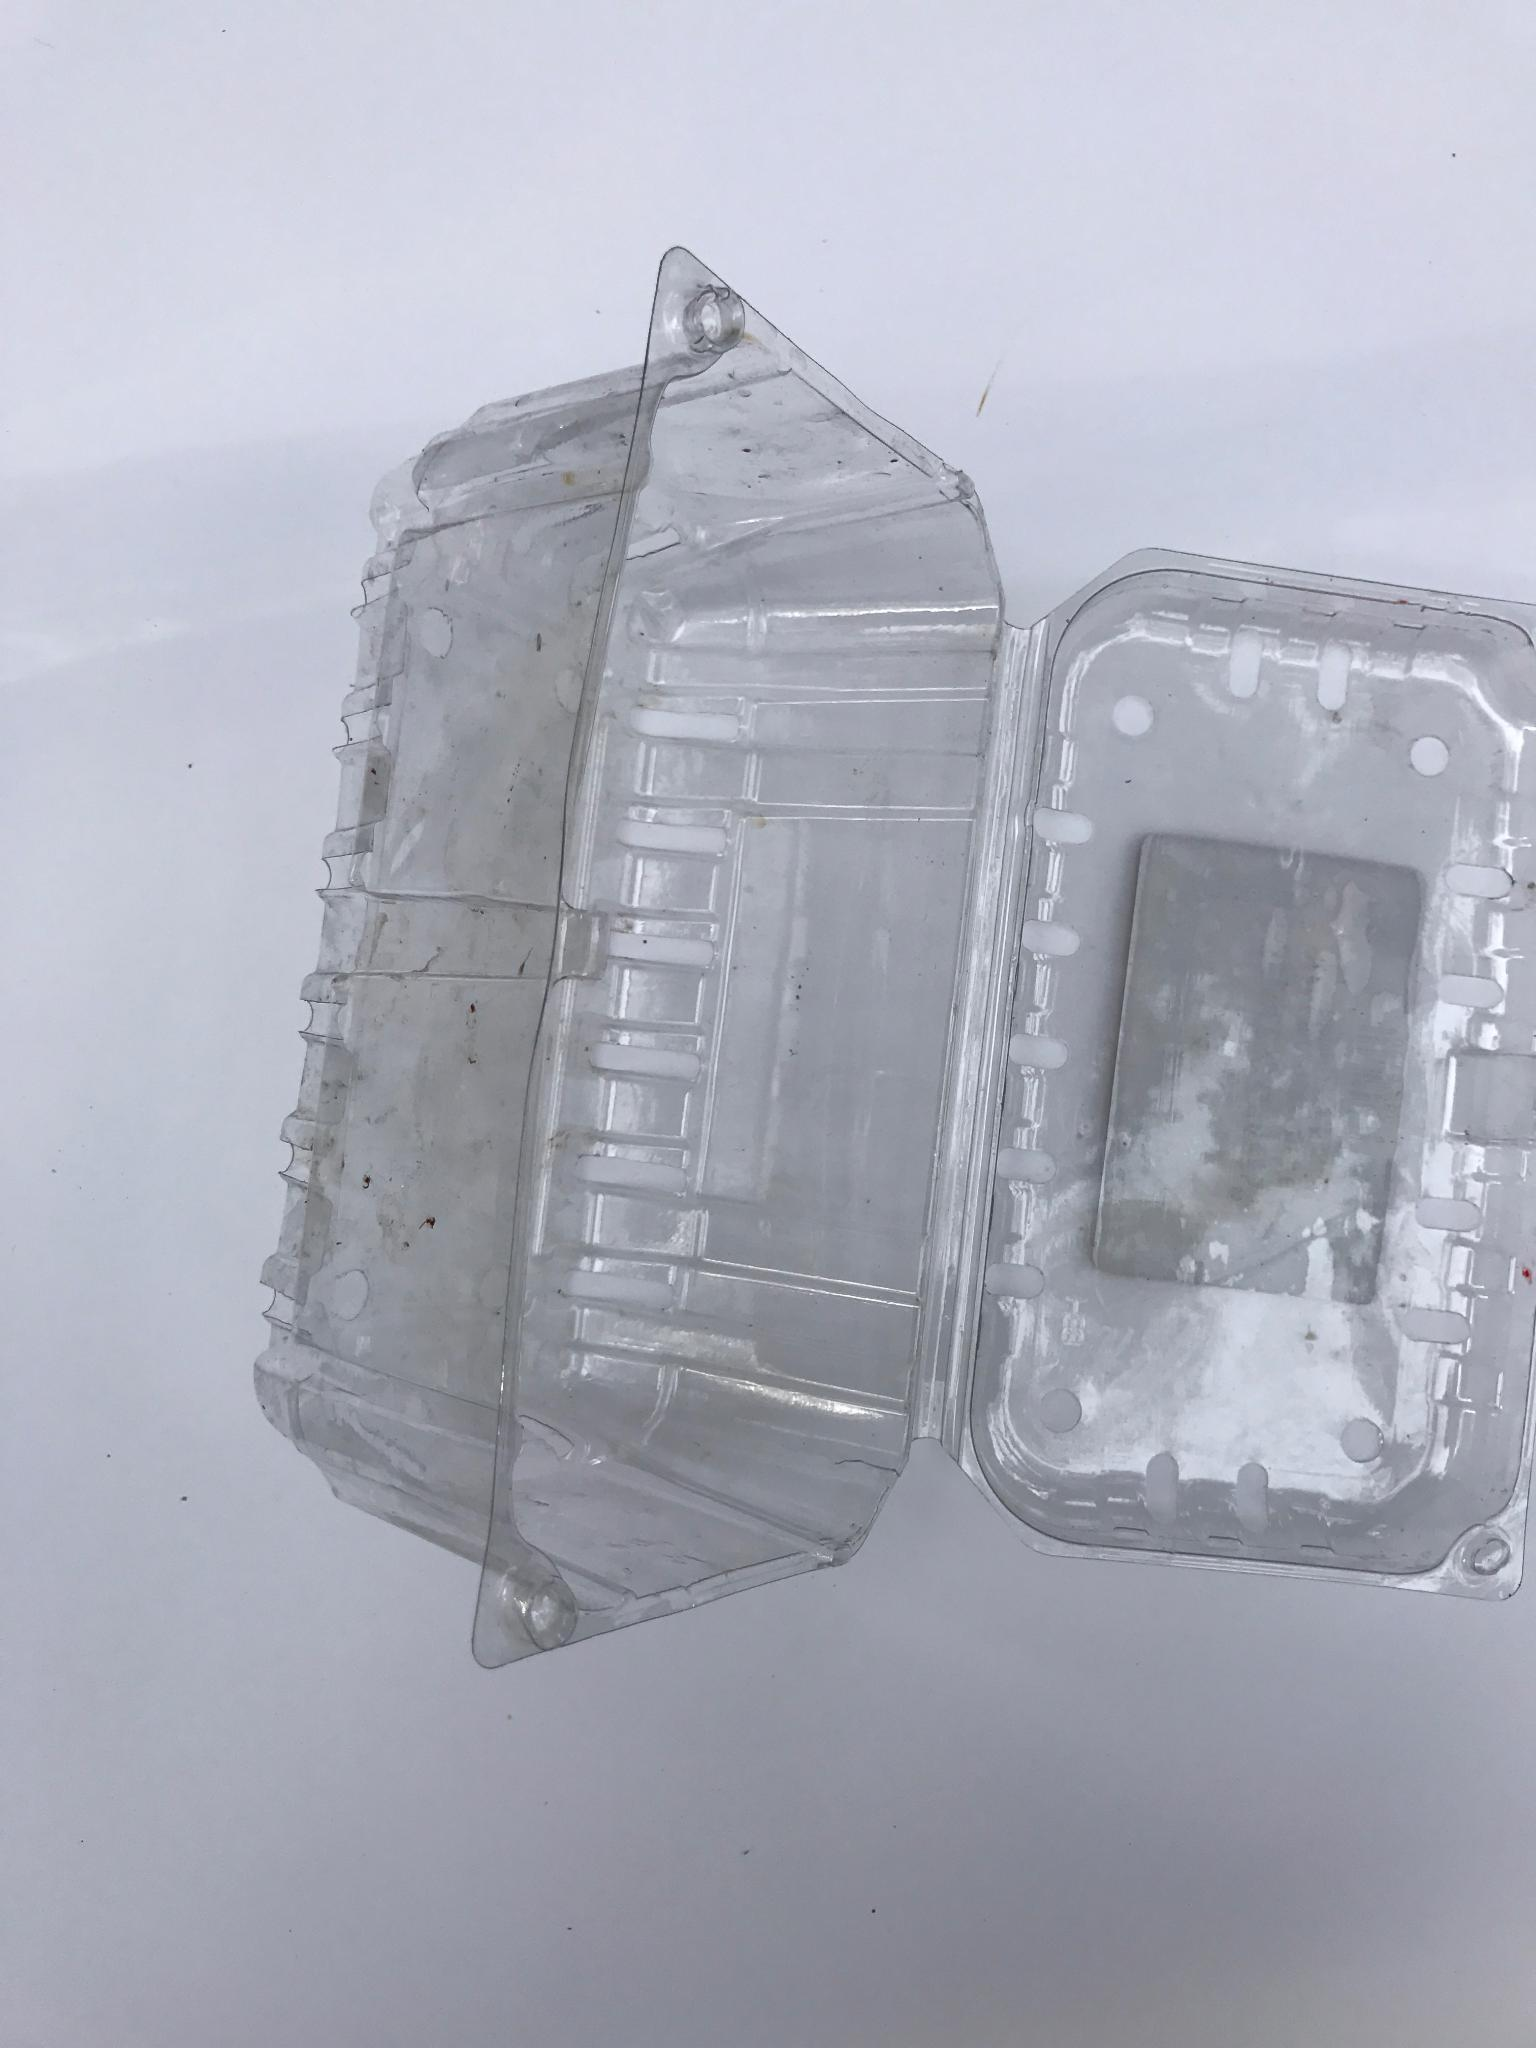Plastic: (227, 223, 1534, 1685)
